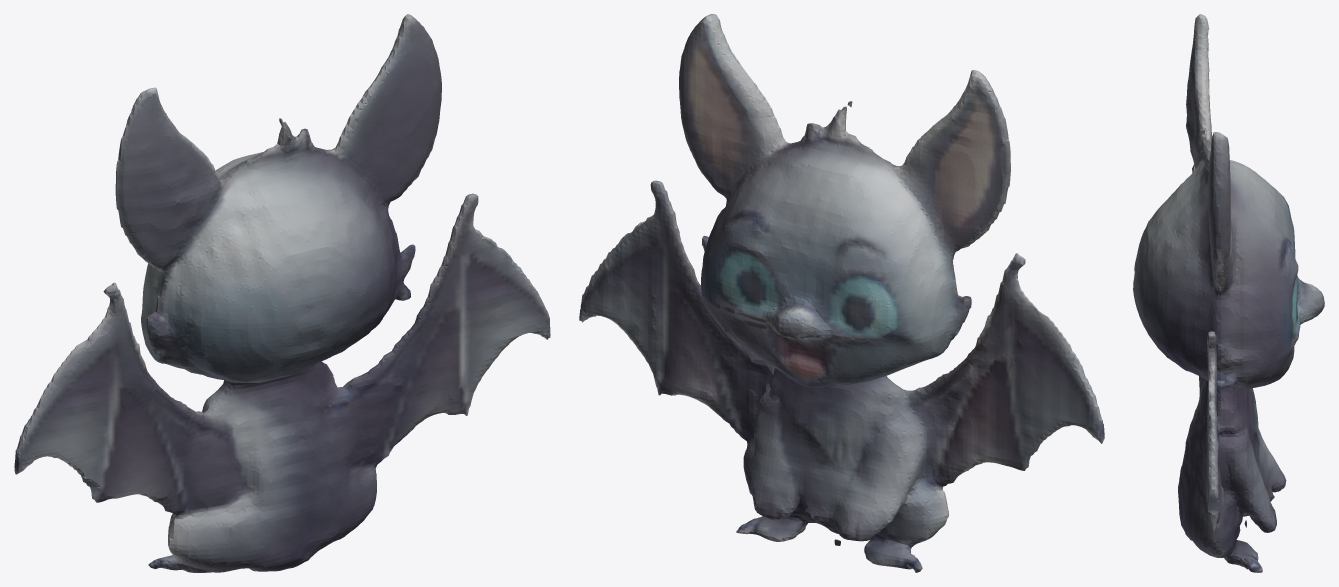
Rendered from bat2.glb.
The picture shows the model from 3 angles, left to right: view 1: azimuth 30°, elevation 25°; view 2: azimuth 150°, elevation 25°; view 3: azimuth 270°, elevation 25°; orthographic projection. The views are drawn at different scales.
Parts seen in each view (by area): view 1: world; view 2: world; view 3: world.
Part boxes in pixels (x1,y1,x2,y2): world: (14, 14, 550, 572); world: (579, 14, 1104, 572); world: (1133, 14, 1324, 572).
Size of the model in its own units: 1.98 by 1.81 by 0.6734.
